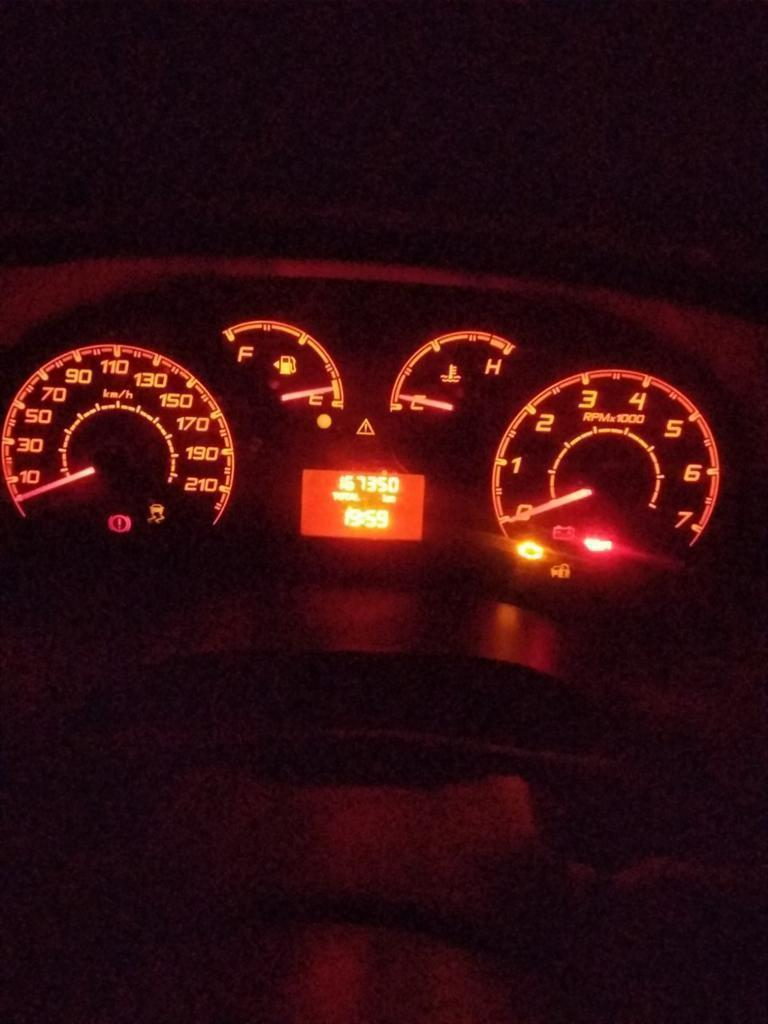0: (388, 476, 398, 491)
1: (344, 506, 350, 529), (339, 472, 343, 490)
3: (367, 475, 376, 492)
5: (365, 509, 376, 527), (377, 475, 387, 492)
6: (344, 474, 355, 490)
7: (355, 474, 366, 490)
9: (376, 509, 389, 529), (351, 508, 360, 528)
X: (388, 494, 396, 504), (337, 491, 343, 500), (354, 493, 360, 501), (343, 491, 348, 500), (332, 491, 337, 500), (361, 511, 364, 526), (382, 494, 387, 503), (348, 492, 353, 500)
odometer: (295, 464, 429, 545)
